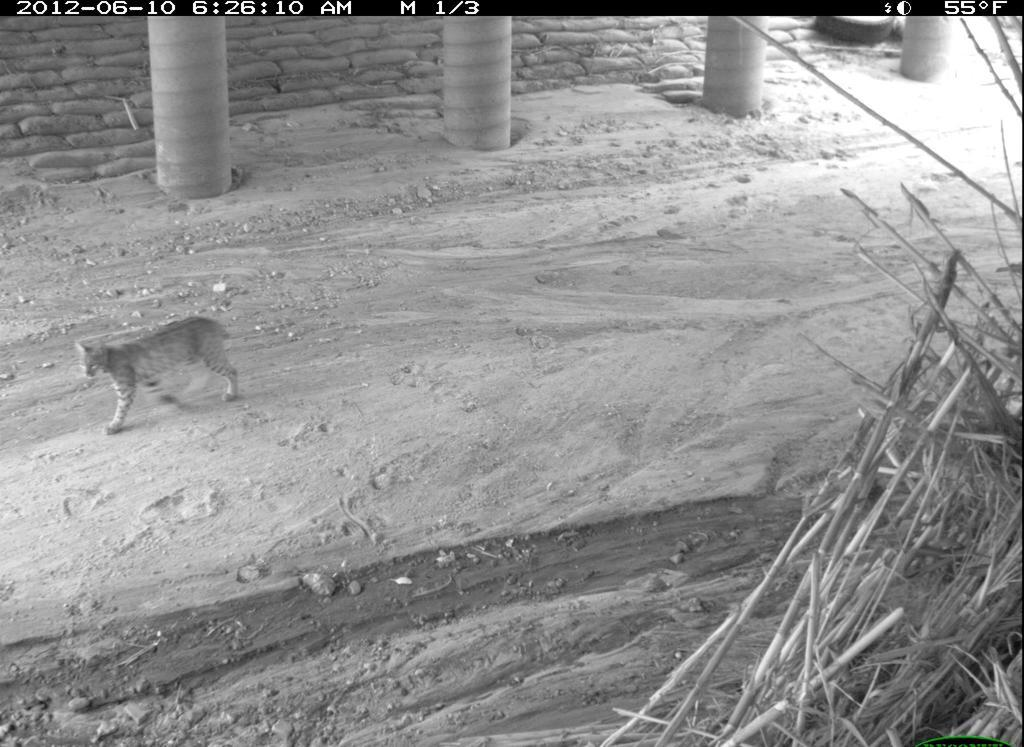bobcat: (71, 312, 254, 445)
